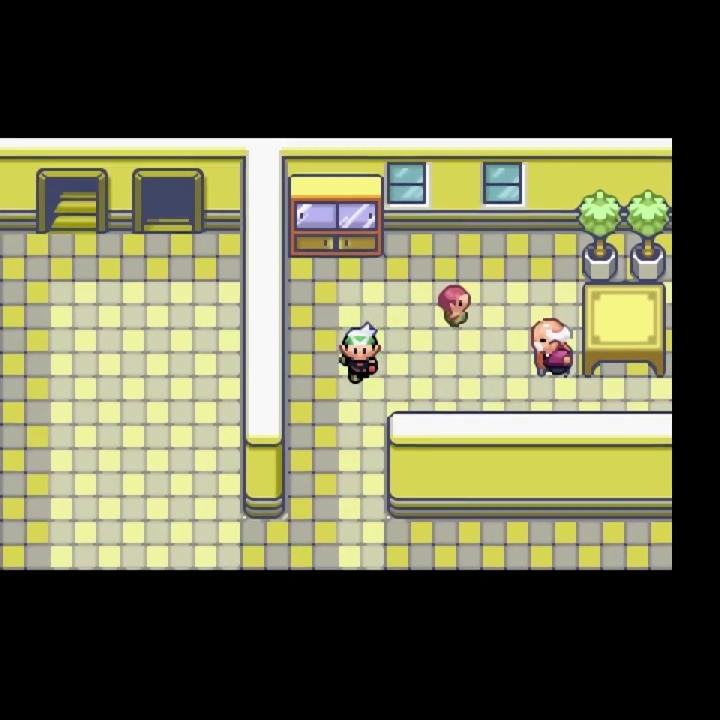agent: (337, 317, 383, 388)
npc: (528, 310, 575, 379), (437, 280, 478, 330)
